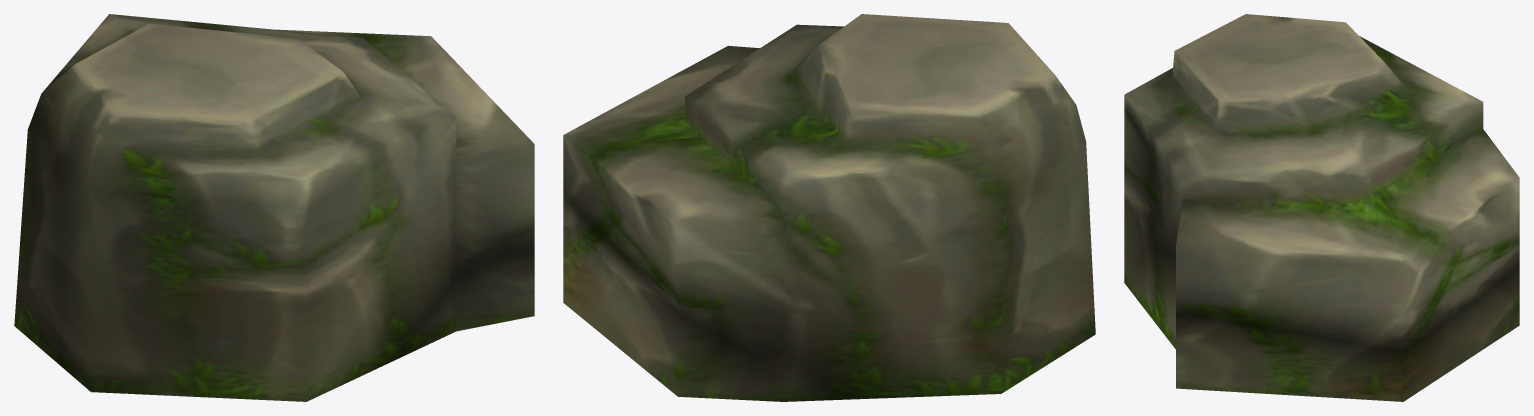
The model's file is RockFormation_4_5 (45).fbx.
The picture shows the model from 3 angles, left to right: view 1: azimuth 30°, elevation 25°; view 2: azimuth 150°, elevation 25°; view 3: azimuth 270°, elevation 25°; orthographic projection. The views are drawn at different scales.
Parts seen in each view (by area): view 1: RockFormation_4_5 (45); view 2: RockFormation_4_5 (45); view 3: RockFormation_4_5 (45).
Part boxes in pixels (bbox=[...]): RockFormation_4_5 (45): bbox=[14, 14, 534, 401]; RockFormation_4_5 (45): bbox=[563, 14, 1095, 401]; RockFormation_4_5 (45): bbox=[1124, 14, 1519, 401].
Bounding box in the file's own units: 380 × 217 × 352.
